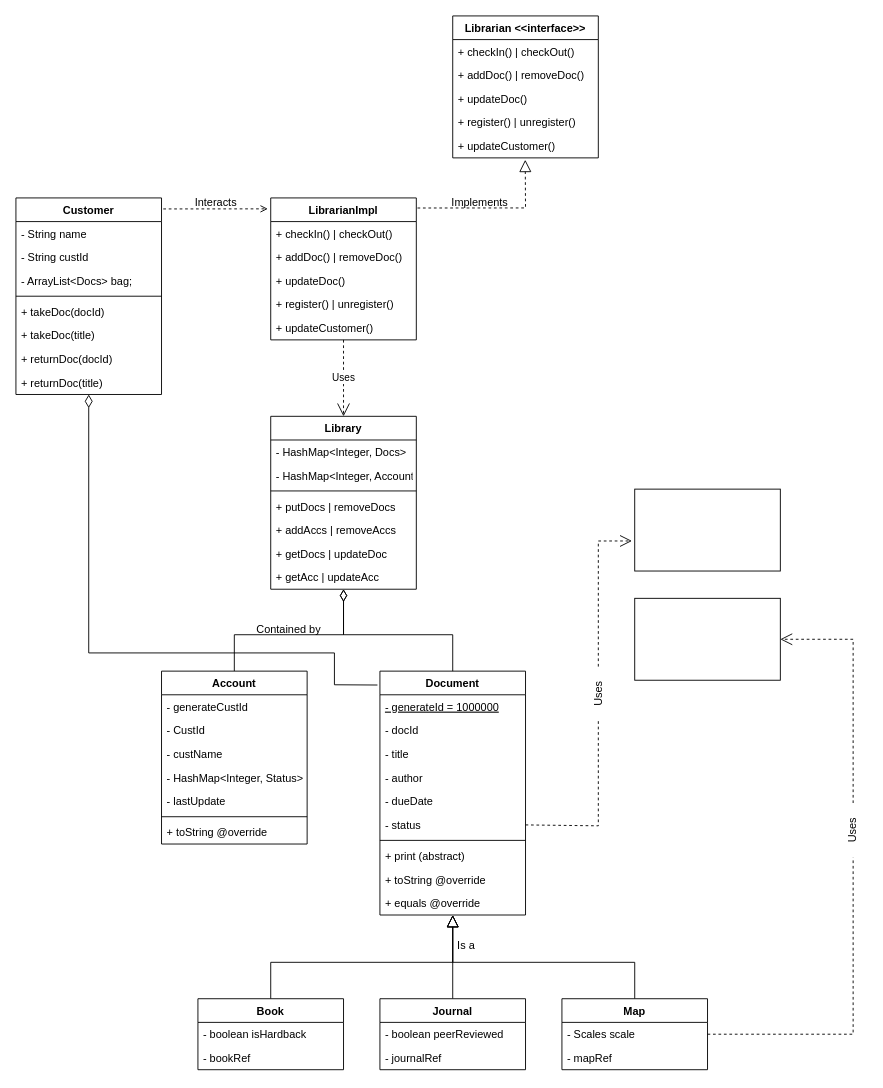
This 883x1088 diagram has some shape labels left out. The shapes that lost their labels are listed below. From the top down, each one's centre as x and y in pixels, then its label:
(x=707, y=529): Enum: Status CHECKED_IN CHECKED_OUT OVERDUE
(x=707, y=638): Enum: Scales 1:1250 1:2500 1:10 000
